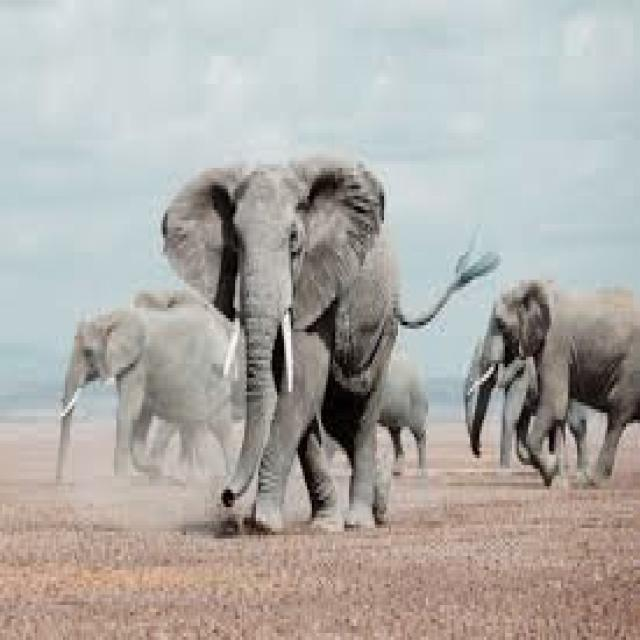elephant: (161, 157, 498, 528), (470, 280, 638, 479), (56, 304, 230, 476)
